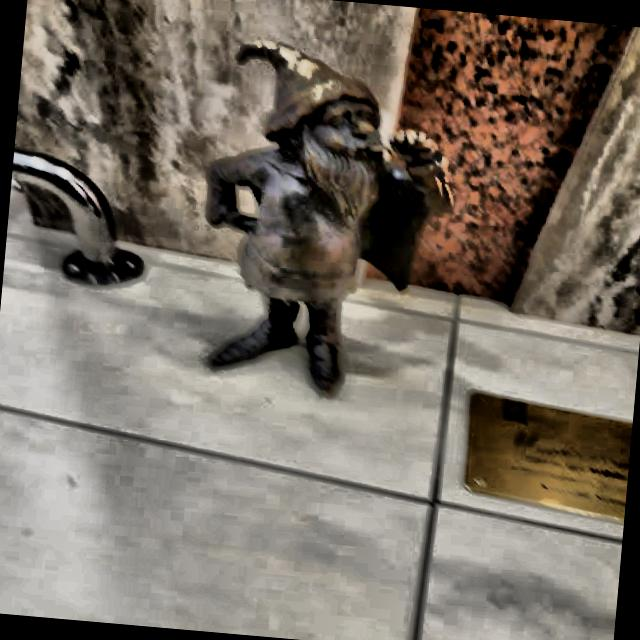Trabibrzuch: (209, 41, 450, 392)
